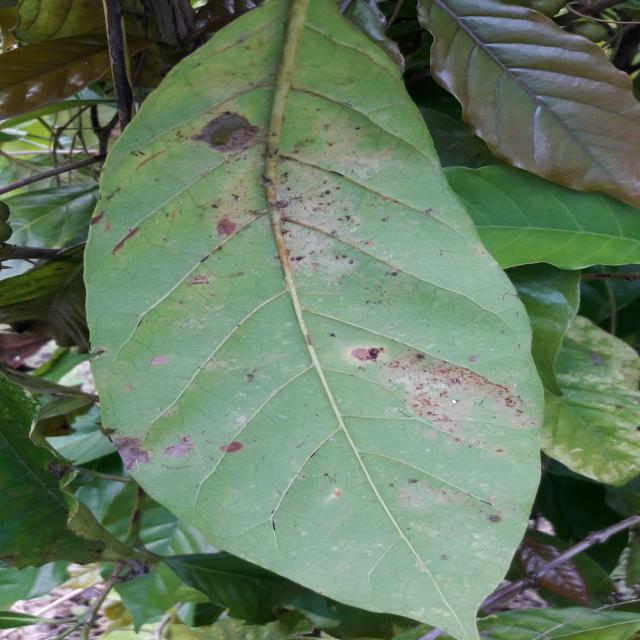Enfermedad-Roya: (86, 0, 544, 640)
